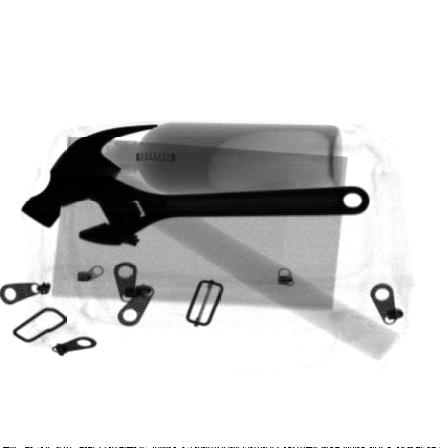Hammer: (22, 122, 405, 360)
Wrench: (57, 175, 370, 246)
